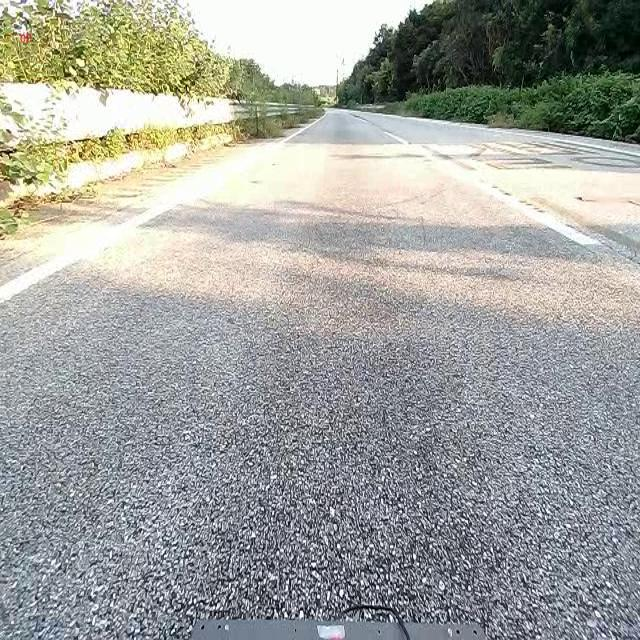Lane: (0, 190, 190, 302), (0, 198, 187, 303), (421, 147, 601, 244), (418, 148, 596, 244)
